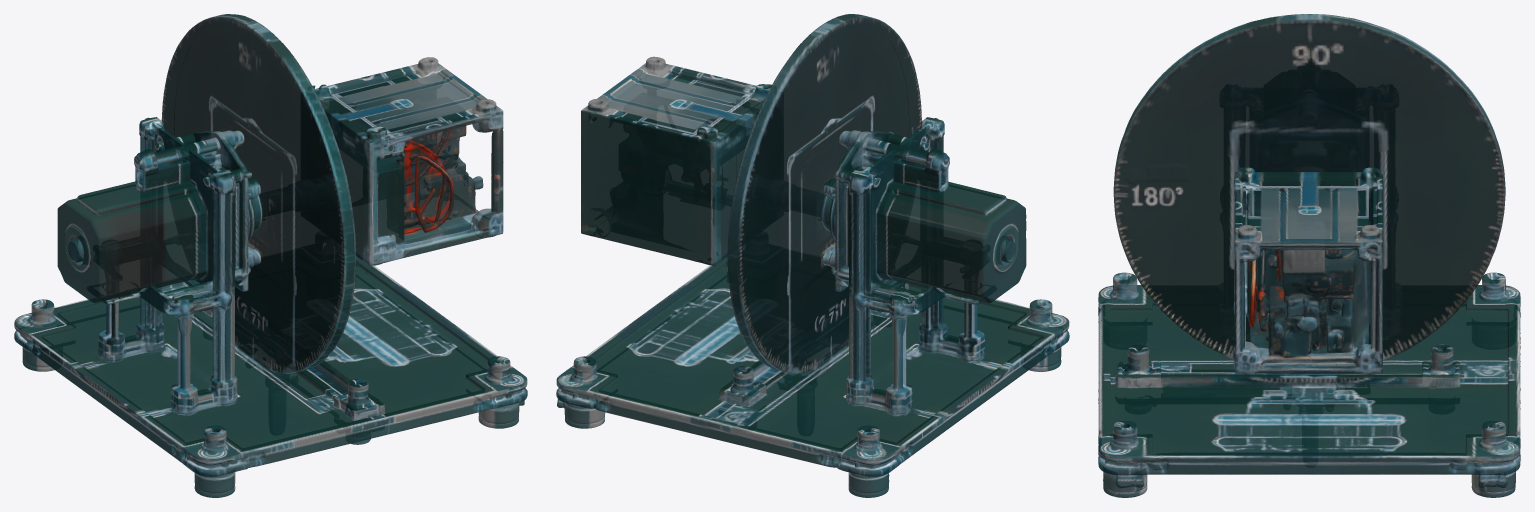
Rendered from robotic-motor-assembly-3d-model-edited (2)(1).glb.
The picture shows the model from 3 angles, left to right: view 1: azimuth 30°, elevation 25°; view 2: azimuth 150°, elevation 25°; view 3: azimuth 270°, elevation 25°; orthographic projection. The views are drawn at different scales.
Parts seen in each view (by area): view 1: tripo_node_3bdc79d7-6188-484a-8ef7-e26c2fb263cc; view 2: tripo_node_3bdc79d7-6188-484a-8ef7-e26c2fb263cc; view 3: tripo_node_3bdc79d7-6188-484a-8ef7-e26c2fb263cc.
Part boxes in pixels (x1,y1,x2,y2): tripo_node_3bdc79d7-6188-484a-8ef7-e26c2fb263cc: (14, 14, 527, 497); tripo_node_3bdc79d7-6188-484a-8ef7-e26c2fb263cc: (556, 14, 1069, 497); tripo_node_3bdc79d7-6188-484a-8ef7-e26c2fb263cc: (1098, 14, 1520, 497).
Bounding box in the file's own units: 1 × 0.9905 × 0.8628.
1 material, 1 textured.
